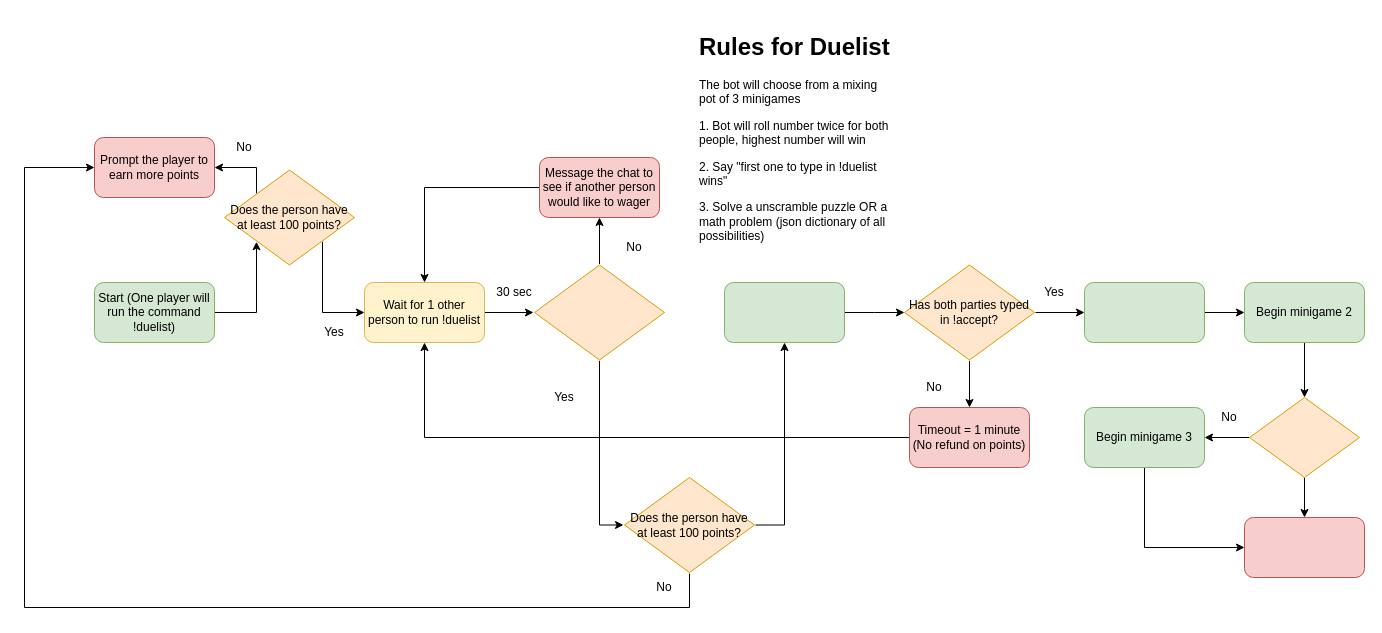
Some shapes in this 1382 by 633 pixel diagram are drawn without their labels. Here are the shapes that lost their labels. From the top down, the box of each, then its label:
(534, 264, 664, 360): Has another person accepted the battle?
(724, 282, 844, 342): Let the battle begin! (Type !accept from both parties to begin)
(1084, 282, 1204, 342): Begin minigame 1
(1248, 396, 1360, 478): Does someone have 2 points yet?
(1244, 516, 1364, 578): Award winner 100xp / Penalize loser 100pts
